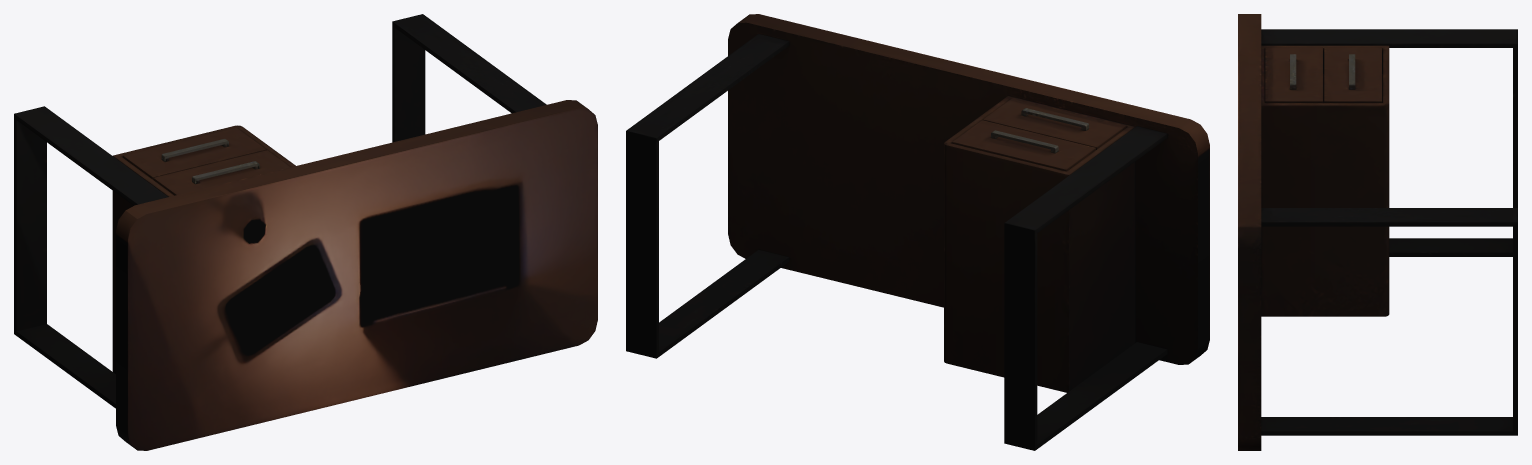
File: Desk.obj
3 renders of one model, left to right at view 1: azimuth 30°, elevation 25°; view 2: azimuth 150°, elevation 25°; view 3: azimuth 270°, elevation 25°, orthographic. The views are drawn at different scales.
Size of the model in its own units: 2 by 0.9613 by 1.06.
Materials: 1 (1 with a texture image).
